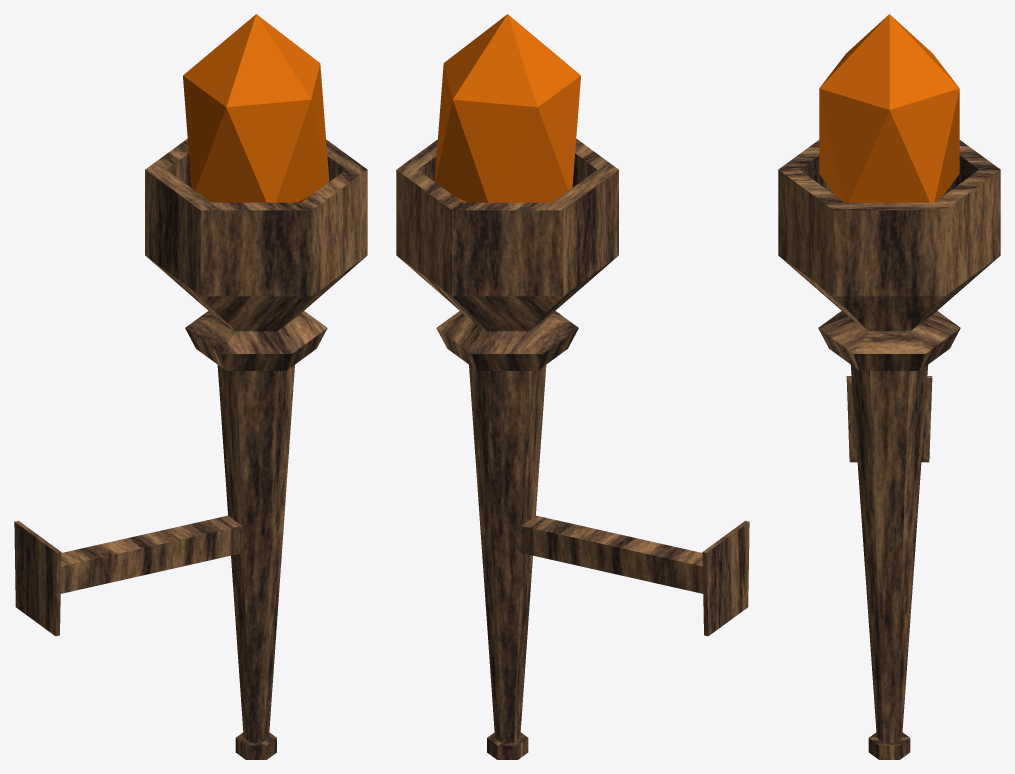
Rendered from torche.fbx.
3 views of the same model, side by side, from view 1: azimuth 30°, elevation 25°; view 2: azimuth 150°, elevation 25°; view 3: azimuth 270°, elevation 25° (orthographic).
Visible parts, largest first — view 1: Circle; view 2: Circle; view 3: Circle.
Part boxes in pixels (bbox=[...]): Circle: bbox=[14, 14, 367, 759]; Circle: bbox=[396, 14, 749, 759]; Circle: bbox=[778, 14, 1000, 759].
Size of the model in its own units: 316 by 732 by 200.
2 materials, 1 textured.
